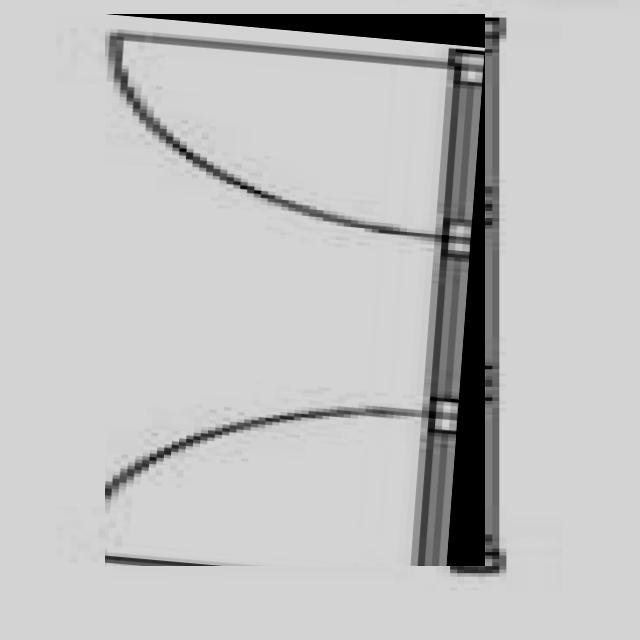door: (106, 14, 486, 566)
